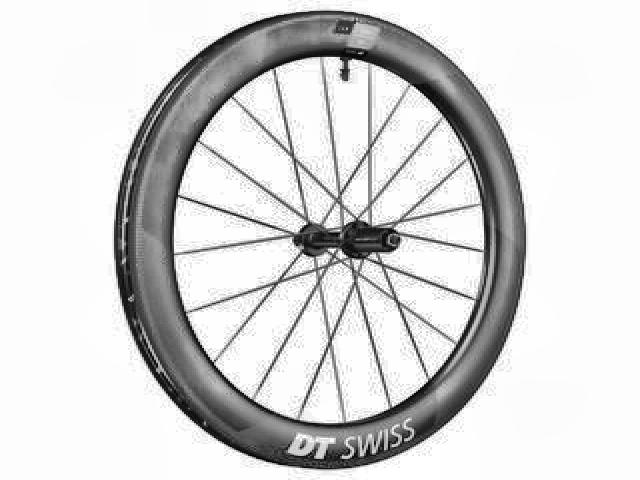wheel: (104, 7, 531, 472)
